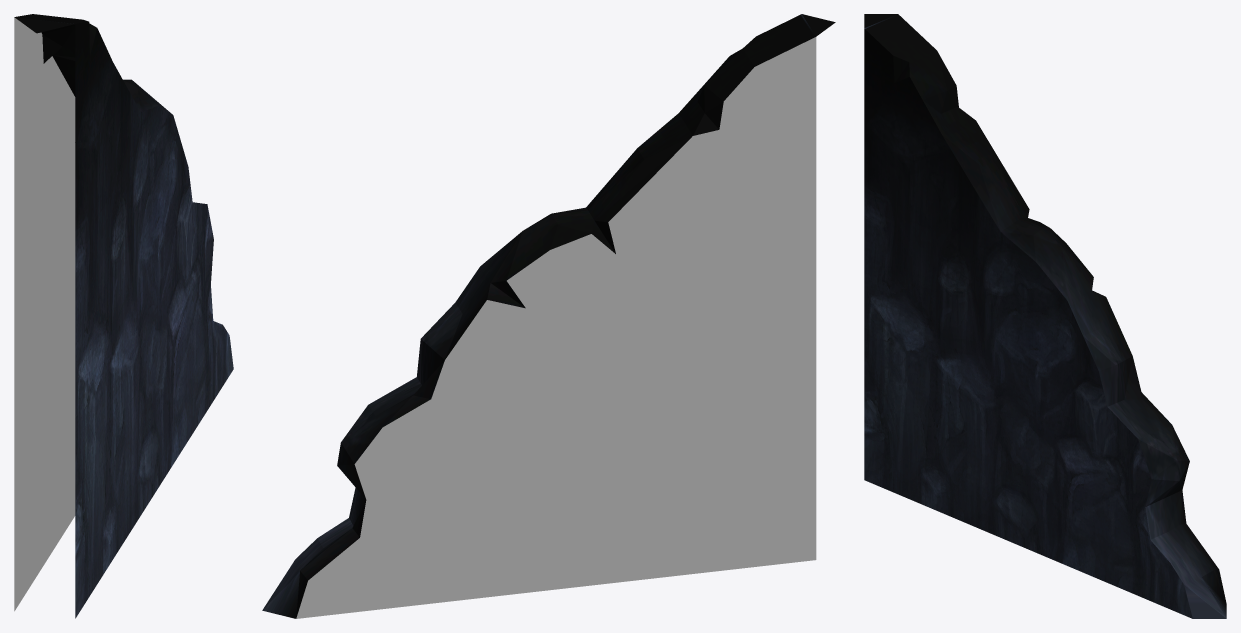
Rendered from mine_fade_transition_10.fbx.
3 renders of one model, left to right at view 1: azimuth 30°, elevation 25°; view 2: azimuth 150°, elevation 25°; view 3: azimuth 270°, elevation 25°, orthographic. The views are drawn at different scales.
Parts seen in each view (by area): view 1: mine_fade_transition_10-0; view 2: mine_fade_transition_10-0; view 3: mine_fade_transition_10-0.
Boxes of the visible parts, x1,y1,x2,y2 form: mine_fade_transition_10-0: (14,14,233,618); mine_fade_transition_10-0: (262,14,835,618); mine_fade_transition_10-0: (864,14,1226,618).
Bounding box in the file's own units: 4 × 5.5 × 4.
